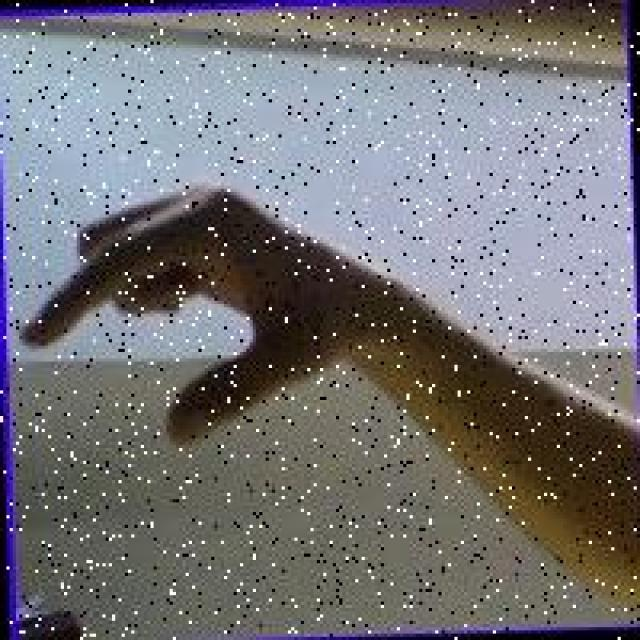Q: (8, 166, 370, 464)
